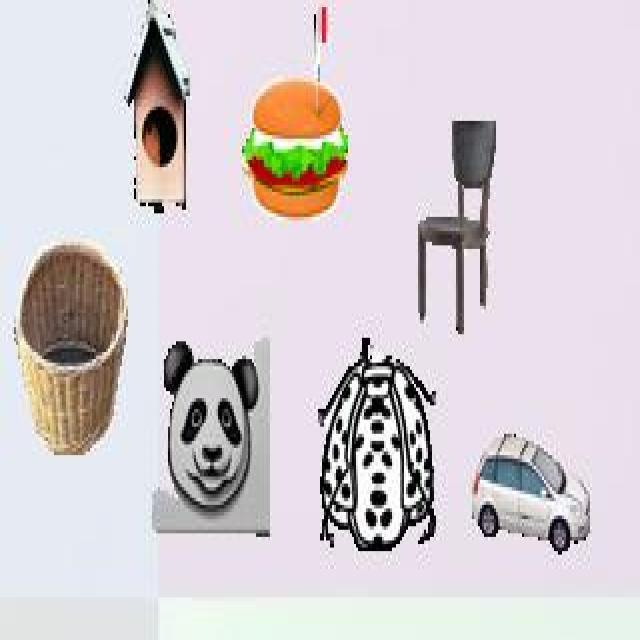Other Objects: (320, 336, 438, 556), (13, 236, 128, 456), (241, 8, 348, 219)
